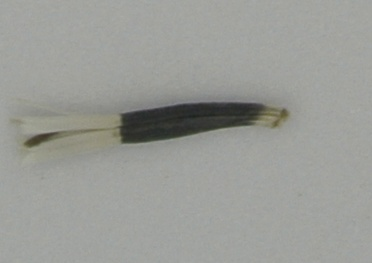เมล็ดดีติดกัน: (11, 95, 291, 167)
